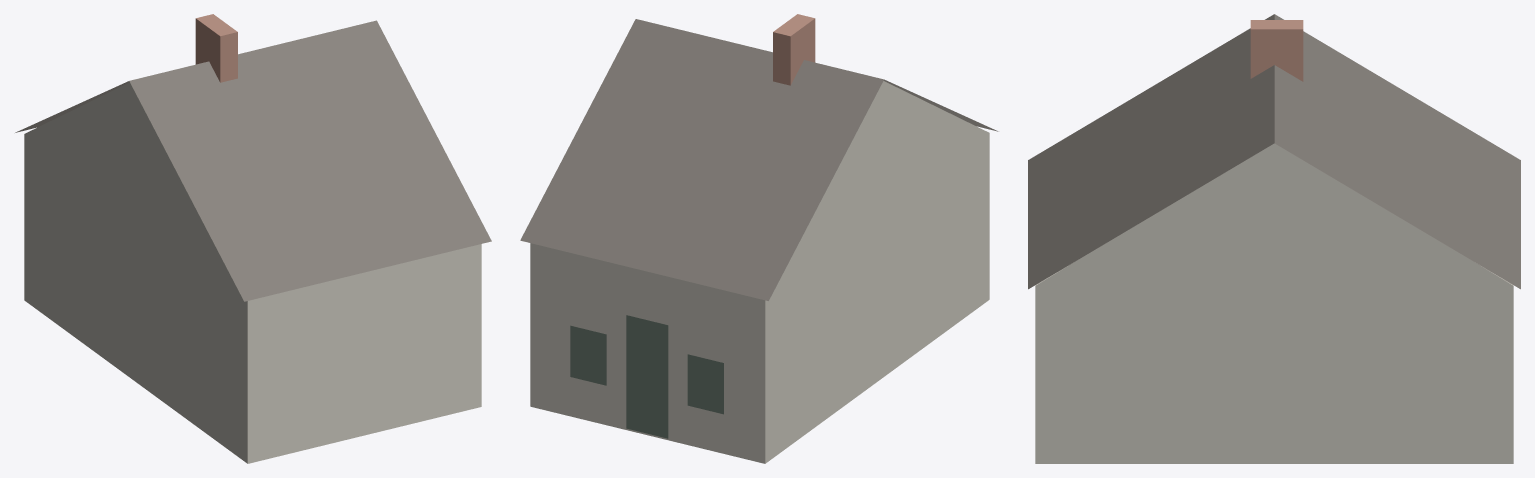
The model's file is recon_1835_south_c1_010__recommended_1835.glb.
The picture shows the model from 3 angles, left to right: view 1: azimuth 30°, elevation 25°; view 2: azimuth 150°, elevation 25°; view 3: azimuth 270°, elevation 25°; orthographic projection. The views are drawn at different scales.
Visible parts, largest first — view 1: recon_1835_south_c1_010__recommended_1835; view 2: recon_1835_south_c1_010__recommended_1835; view 3: recon_1835_south_c1_010__recommended_1835.
Boxes of the visible parts, x1,y1,x2,y2 form: recon_1835_south_c1_010__recommended_1835: (15,14,491,463); recon_1835_south_c1_010__recommended_1835: (520,14,998,463); recon_1835_south_c1_010__recommended_1835: (1028,14,1520,463).
Size of the model in its own units: 5.07 by 6.57 by 8.16.
